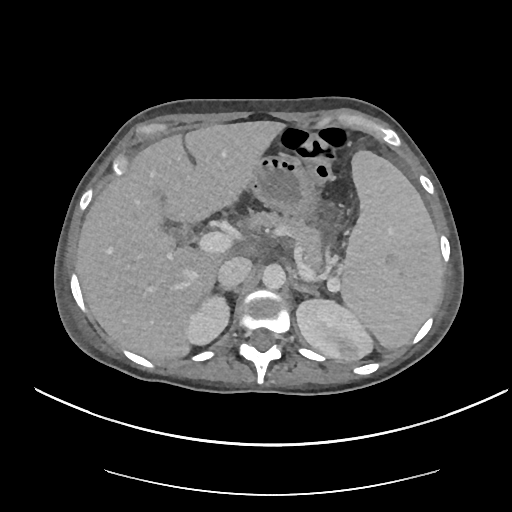Lesion: (337, 335, 363, 364)
